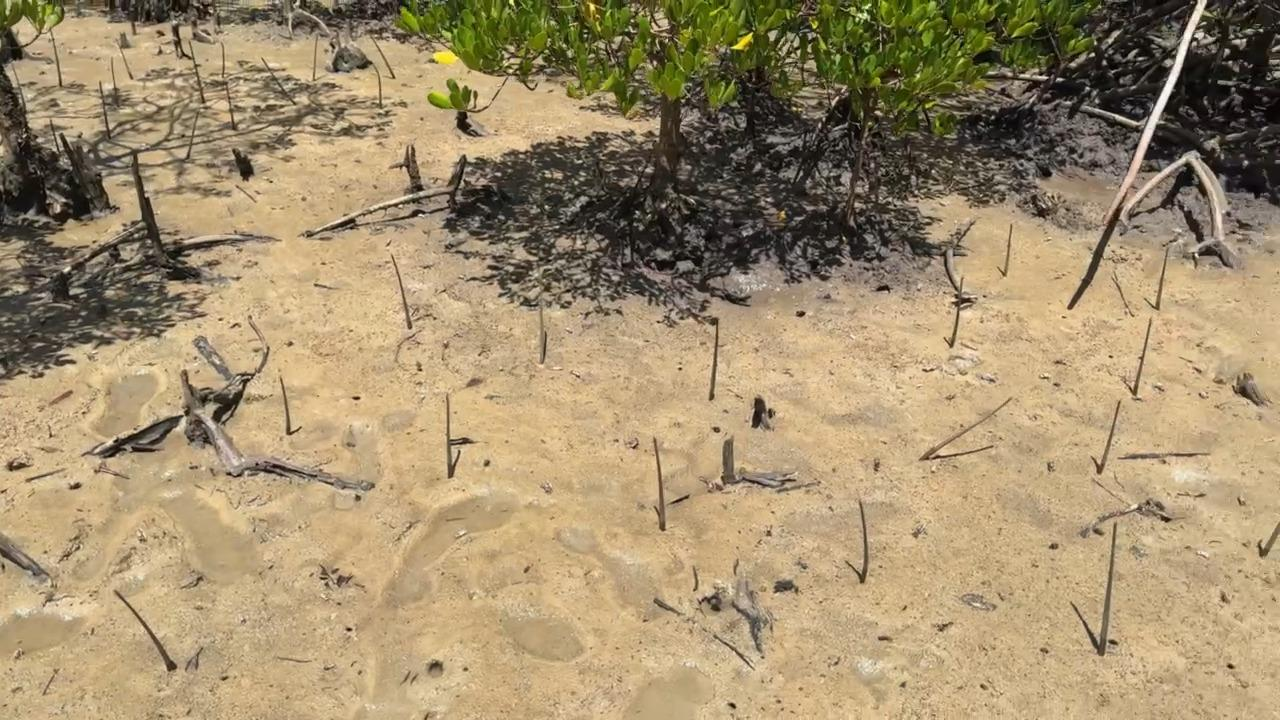Tree: (918, 395, 1011, 461), (113, 591, 177, 672), (1099, 521, 1119, 656), (1097, 400, 1123, 475), (363, 23, 395, 79), (260, 57, 296, 105), (391, 254, 413, 328), (1133, 319, 1152, 395), (652, 437, 665, 530), (189, 41, 205, 104), (859, 500, 870, 583), (950, 276, 963, 346), (445, 393, 455, 479), (1155, 250, 1169, 310), (710, 319, 720, 401), (114, 37, 133, 79), (51, 30, 64, 87), (185, 111, 200, 159), (280, 376, 292, 435), (99, 81, 111, 138), (1003, 223, 1014, 277), (225, 83, 237, 130), (1263, 522, 1280, 555), (370, 62, 382, 107), (110, 58, 120, 105), (539, 301, 546, 364), (313, 35, 319, 81), (221, 40, 225, 79)
